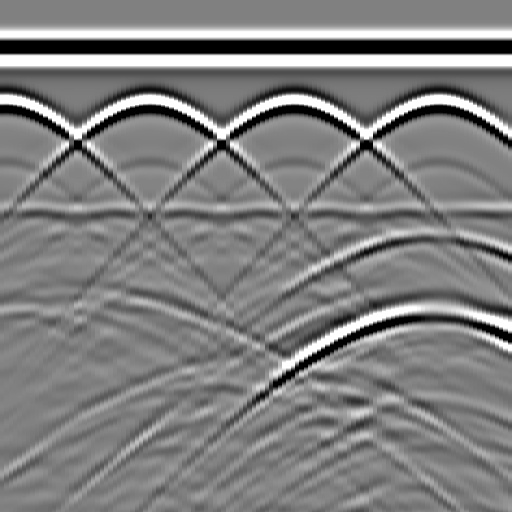grout_surface: (1, 197, 512, 227)
rebar: (127, 83, 167, 123), (271, 83, 311, 123), (416, 83, 456, 123)
rock_surface: (1, 288, 511, 387)
water_void: (399, 210, 459, 250)
